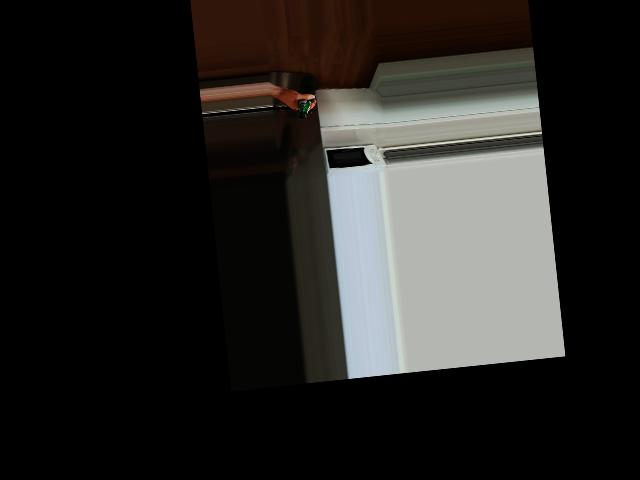beer: (293, 74, 319, 118)
